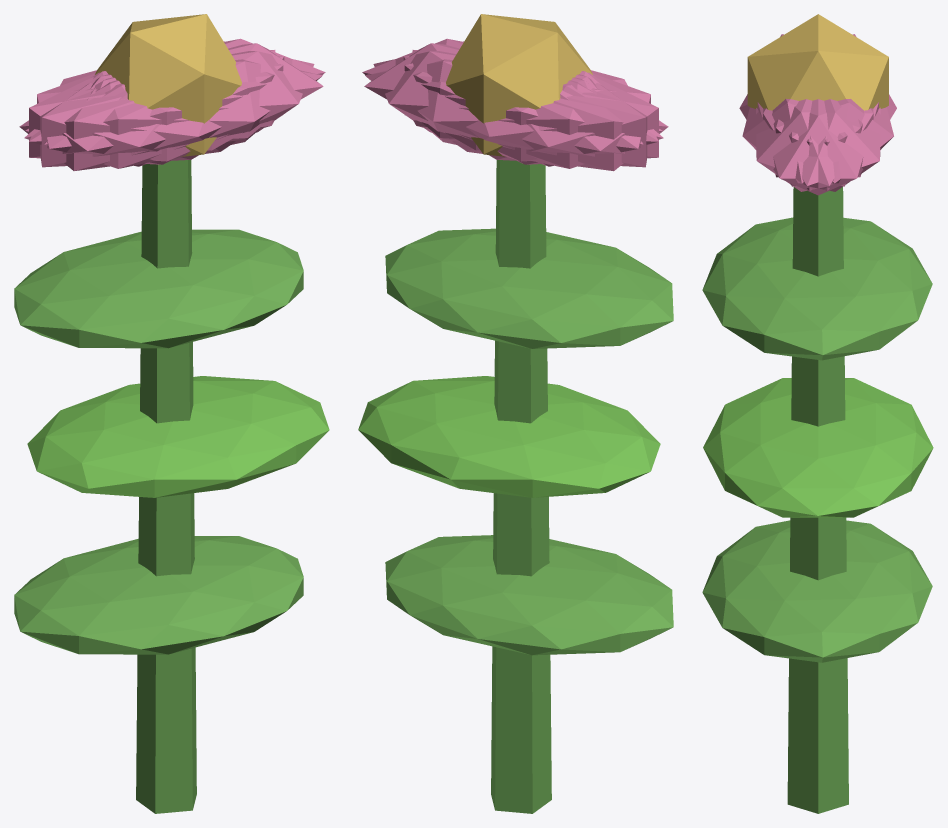
File: capsicum-frutescens.glb
3 renders of one model, left to right at view 1: azimuth 30°, elevation 25°; view 2: azimuth 150°, elevation 25°; view 3: azimuth 270°, elevation 25°, orthographic.
Parts seen in each view (by area): view 1: leaf1, leaf2, leaf0, stem, center, petal1, petal6, petal2, petal5, petal7, petal0, petal4 (+2 smaller); view 2: leaf1, leaf2, leaf0, stem, center, petal8, petal3, petal7, petal4, petal2, petal0, petal5 (+2 smaller); view 3: leaf1, leaf2, leaf0, stem, center, petal0, petal4, petal5, petal1, petal8.
Boxes of the visible parts, box(x1,y1,x2,y2) form: leaf1: box(27, 376, 329, 497); leaf2: box(14, 229, 303, 348); leaf0: box(14, 536, 303, 654); stem: box(136, 160, 196, 813); center: box(95, 14, 241, 156); petal1: box(24, 59, 322, 168); petal6: box(19, 72, 235, 170); petal2: box(40, 50, 275, 167); petal5: box(44, 51, 314, 161); petal7: box(29, 56, 284, 164); petal0: box(94, 43, 323, 150); petal4: box(25, 38, 325, 141); leaf1: box(358, 376, 660, 497); leaf2: box(385, 228, 673, 348); leaf0: box(385, 535, 673, 655); stem: box(491, 160, 551, 813); center: box(446, 14, 592, 156); petal8: box(365, 59, 663, 168); petal3: box(452, 72, 668, 171); petal7: box(412, 50, 647, 167); petal4: box(373, 51, 643, 161); petal2: box(403, 56, 658, 164); petal0: box(364, 43, 593, 150); petal5: box(362, 38, 662, 141); leaf1: box(703, 378, 933, 517); leaf2: box(702, 217, 932, 360); leaf0: box(702, 520, 932, 662); stem: box(787, 187, 848, 813); center: box(747, 14, 888, 110); petal0: box(757, 99, 878, 195); petal4: box(763, 99, 880, 191); petal5: box(756, 99, 873, 191); petal1: box(742, 99, 862, 183); petal8: box(773, 99, 893, 183).
Size of the model in its own units: 0.1497 by 0.3674 by 0.1003.
